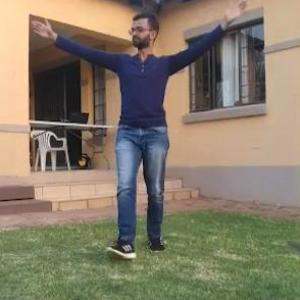takeoff: (12, 0, 231, 275)
